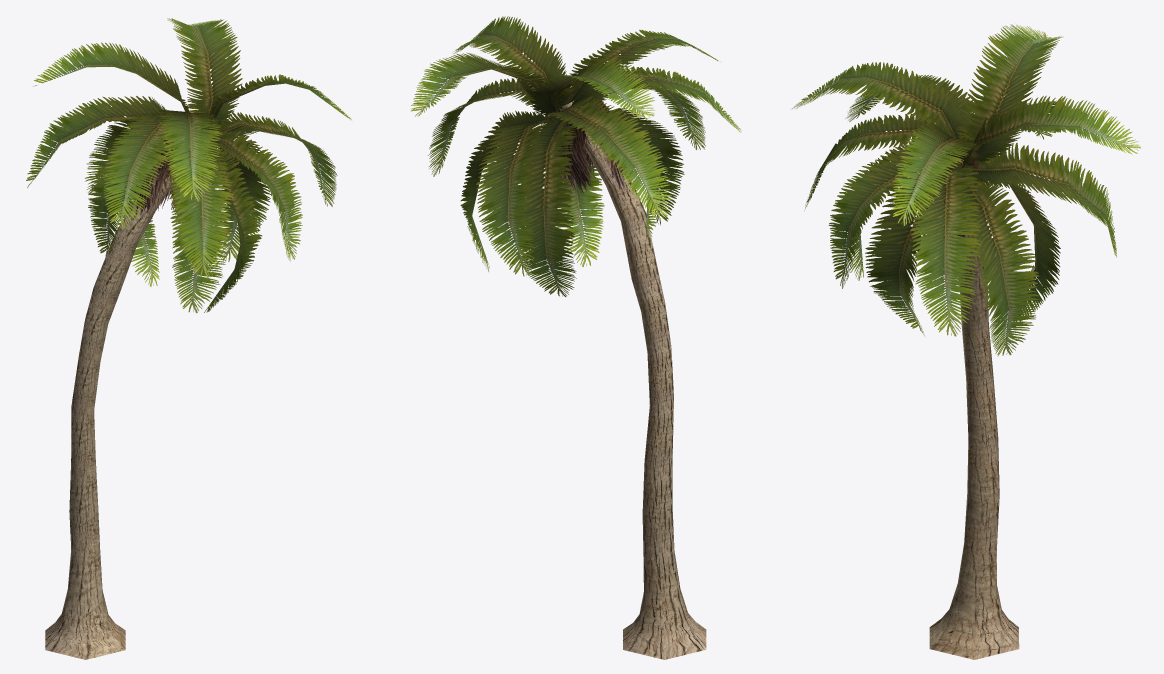
File: PBC_Palms_Pack_Plam_01.fbx
3 renders of one model, left to right at view 1: azimuth 30°, elevation 25°; view 2: azimuth 150°, elevation 25°; view 3: azimuth 270°, elevation 25°, orthographic. The views are drawn at different scales.
Parts seen in each view (by area): view 1: PBC_Palms_Pack_Palm_01; view 2: PBC_Palms_Pack_Palm_01; view 3: PBC_Palms_Pack_Palm_01.
Boxes of the visible parts, <box> form: PBC_Palms_Pack_Palm_01: <box>26,18,351,659</box>; PBC_Palms_Pack_Palm_01: <box>411,16,741,659</box>; PBC_Palms_Pack_Palm_01: <box>792,24,1140,659</box>.
Bounding box in the file's own units: 11.57 × 21.9 × 11.82.
